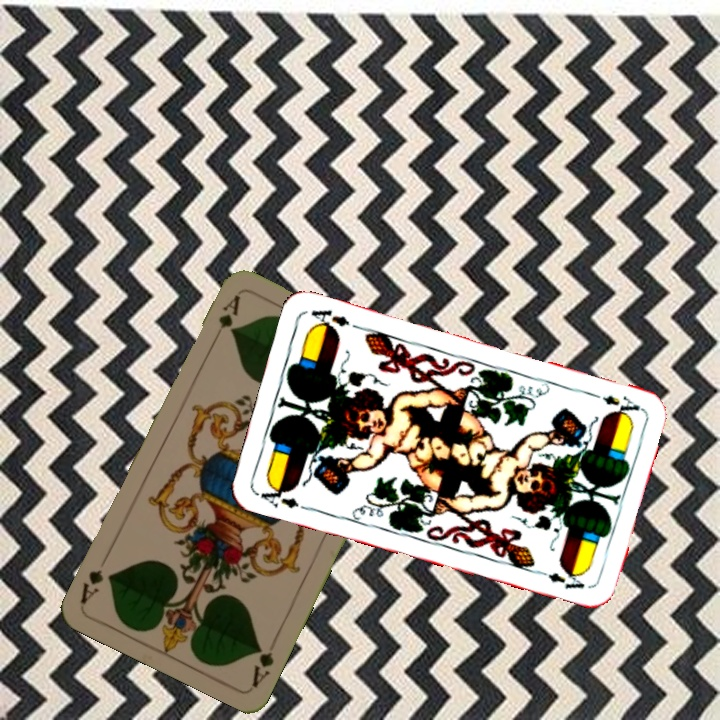EA: (254, 479, 313, 513), (598, 391, 643, 418)
GA: (208, 291, 243, 346), (248, 641, 277, 689)
